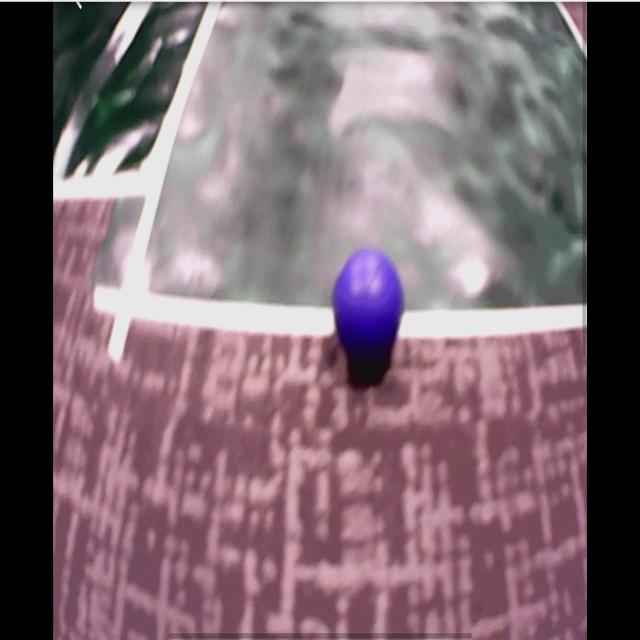ball: (332, 249, 406, 352)
